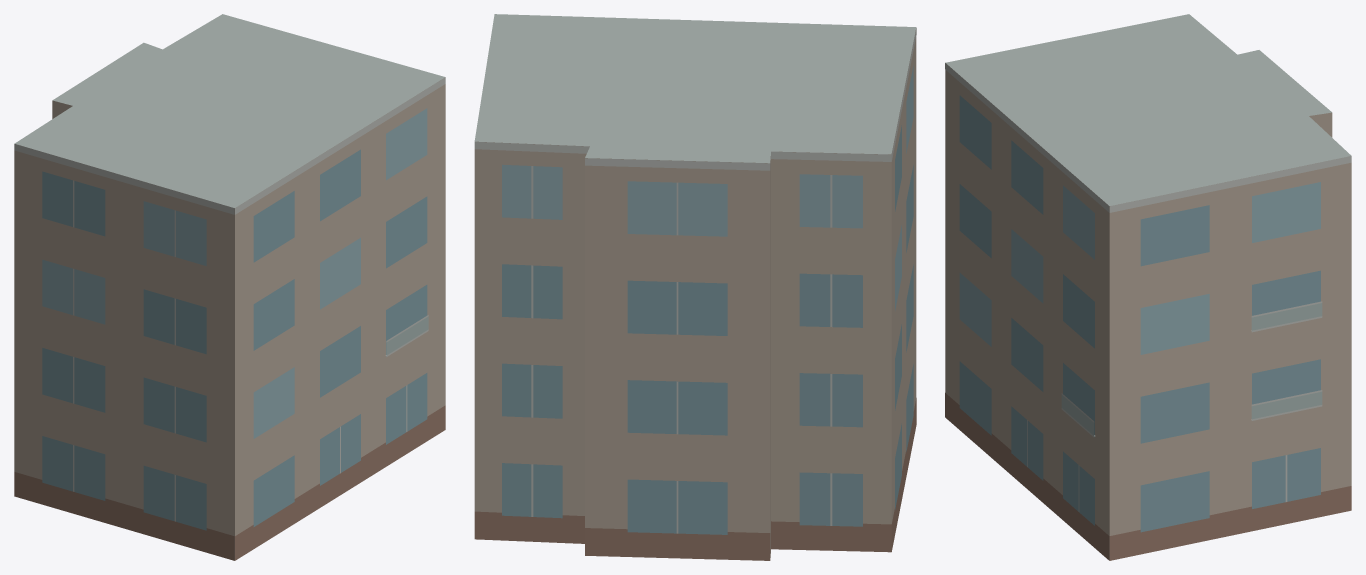
File: survey-upis-32736897.glb
3 renders of one model, left to right at view 1: azimuth 30°, elevation 25°; view 2: azimuth 150°, elevation 25°; view 3: azimuth 270°, elevation 25°, orthographic. The views are drawn at different scales.
Visible parts, largest first — view 1: survey-upis-32736897.tmp; view 2: survey-upis-32736897.tmp; view 3: survey-upis-32736897.tmp.
Boxes of the visible parts, x1,y1,x2,y2 form: survey-upis-32736897.tmp: (14, 14, 445, 560); survey-upis-32736897.tmp: (474, 14, 916, 560); survey-upis-32736897.tmp: (945, 14, 1351, 560).
Bounding box in the file's own units: 14.89 × 12.8 × 13.3.
